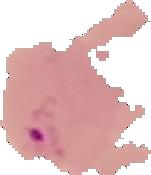parasitized: (21, 97, 89, 166)
